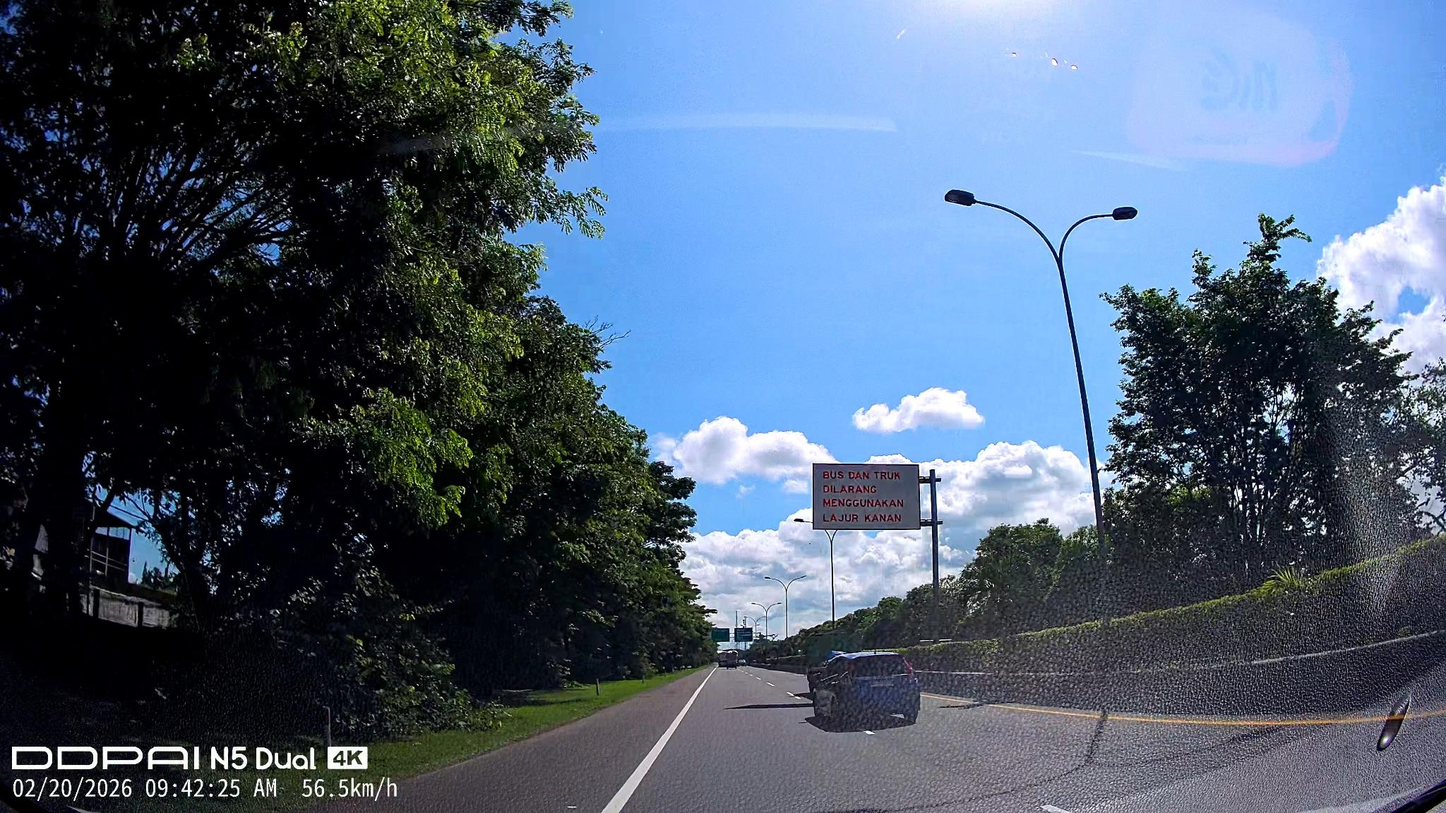rambu_teks: (811, 463, 921, 531)
